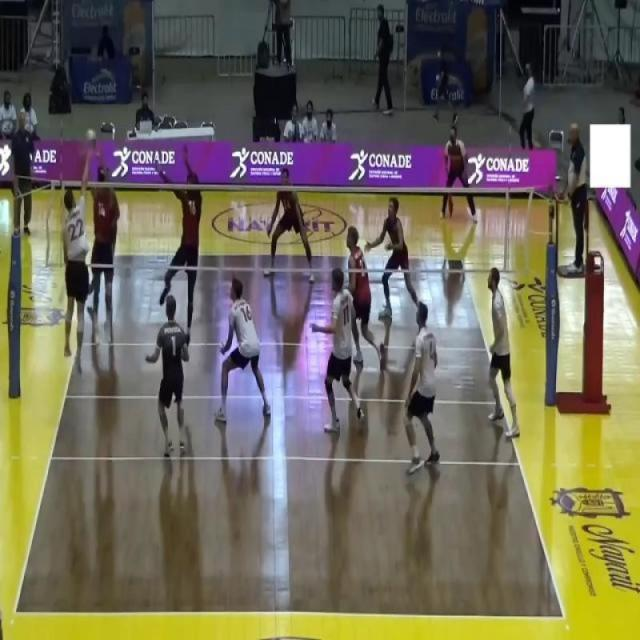volleyball: (85, 128, 96, 147)
